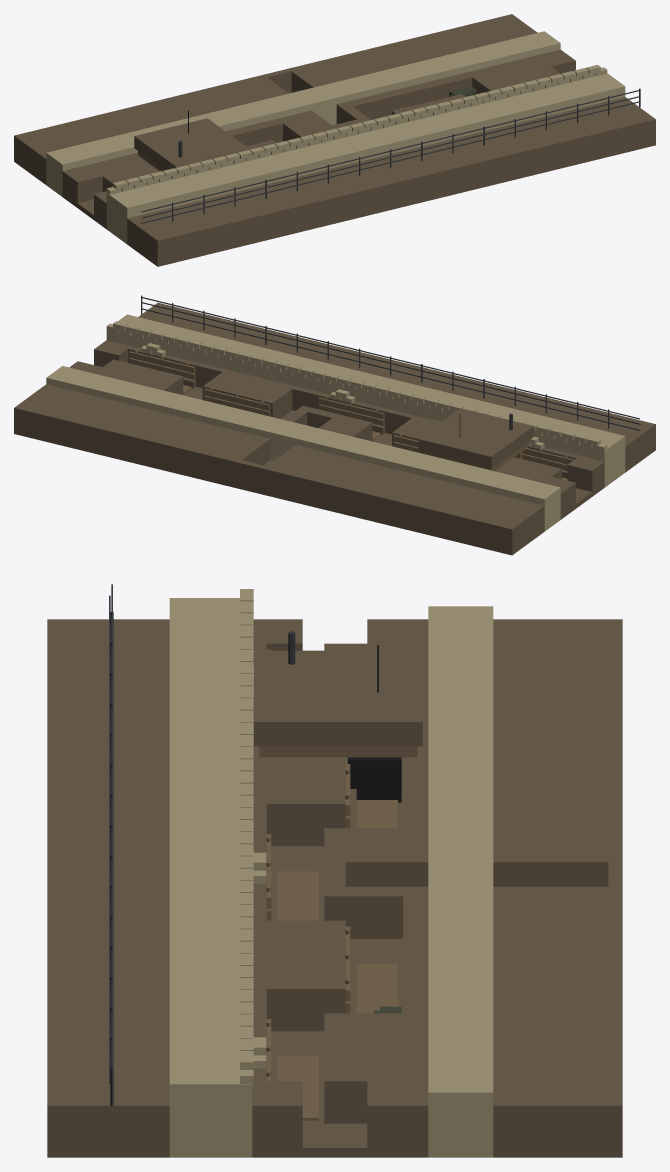
Rendered from Fort_Trench.obj.
The picture shows the model from 3 angles, top to bottom: view 1: azimuth 30°, elevation 25°; view 2: azimuth 150°, elevation 25°; view 3: azimuth 270°, elevation 25°; orthographic projection. The views are drawn at different scales.
Bounding box in the file's own units: 32.05 × 4.2 × 16.
